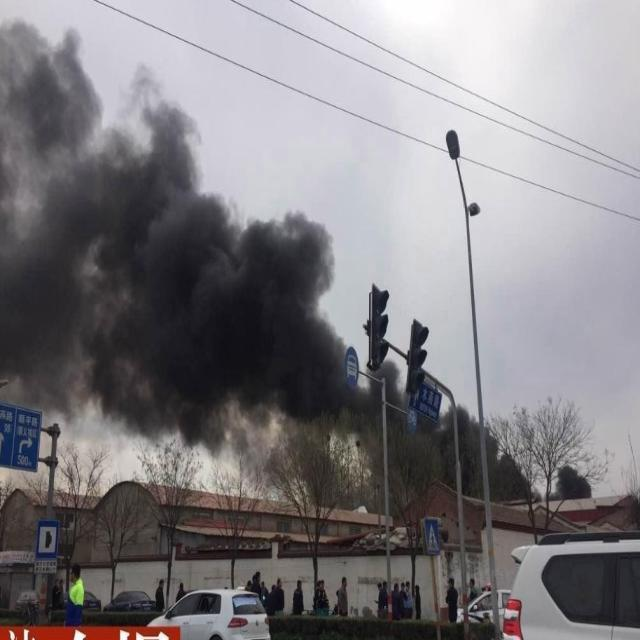Smoke: (0, 16, 408, 496), (416, 402, 592, 508)
